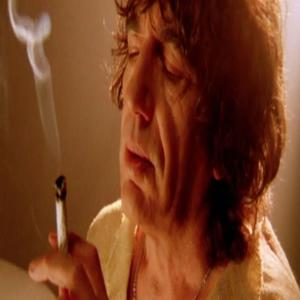cigarette: (51, 176, 75, 260)
